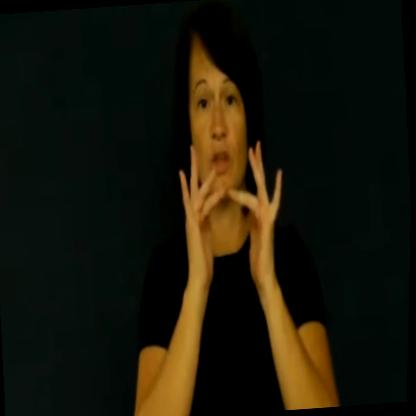Internet: (163, 124, 298, 344)
